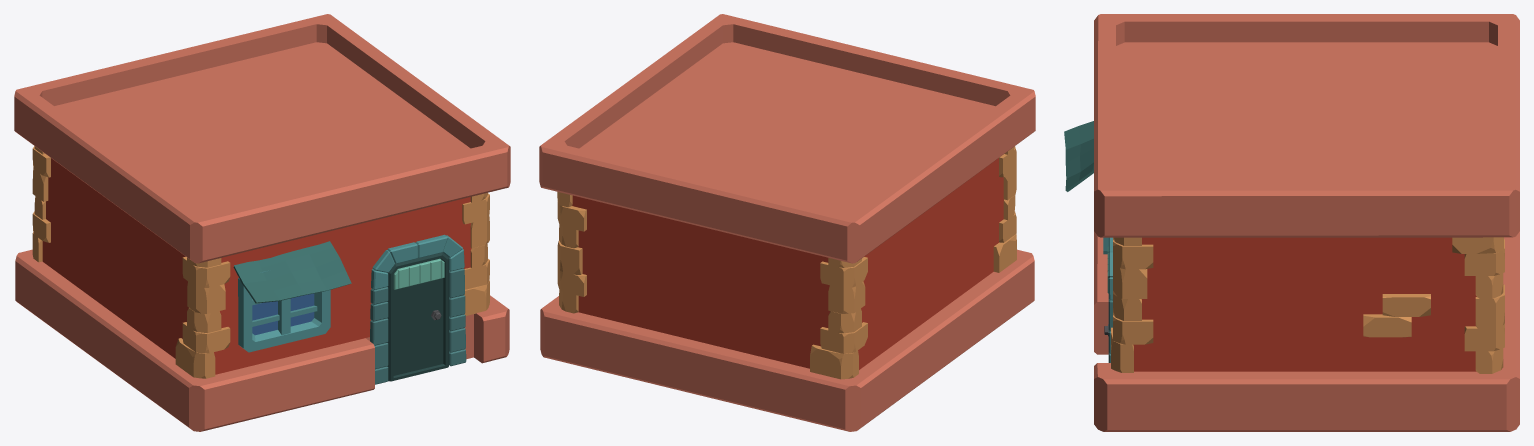
The model's file is house002.fbx.
The picture shows the model from 3 angles, left to right: view 1: azimuth 30°, elevation 25°; view 2: azimuth 150°, elevation 25°; view 3: azimuth 270°, elevation 25°; orthographic projection. The views are drawn at different scales.
Parts seen in each view (by area): view 1: group21_pasted__polySurface4276; view 2: group21_pasted__polySurface4276; view 3: group21_pasted__polySurface4276.
Part boxes in pixels (left/top/right/bottom): group21_pasted__polySurface4276: left=14, top=14, right=510, bottom=431; group21_pasted__polySurface4276: left=539, top=14, right=1035, bottom=431; group21_pasted__polySurface4276: left=1064, top=14, right=1519, bottom=431.
Size of the model in its own units: 580 by 364 by 620.
